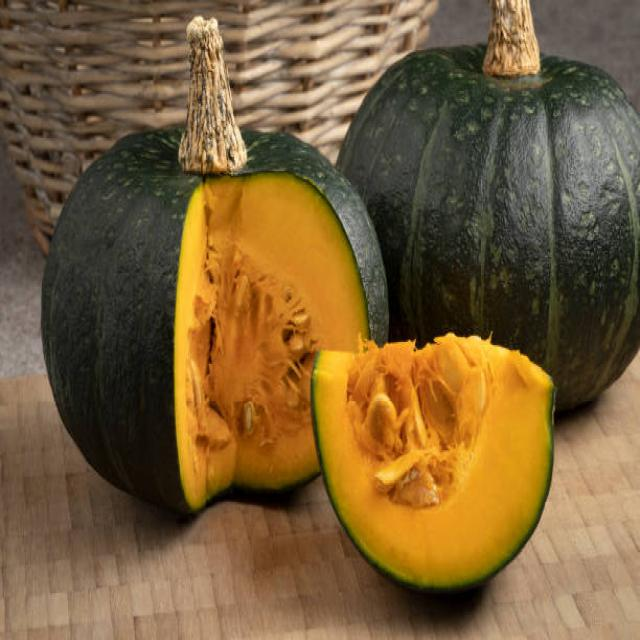pumpkin: (41, 106, 309, 519), (385, 21, 640, 345), (312, 327, 560, 603)
